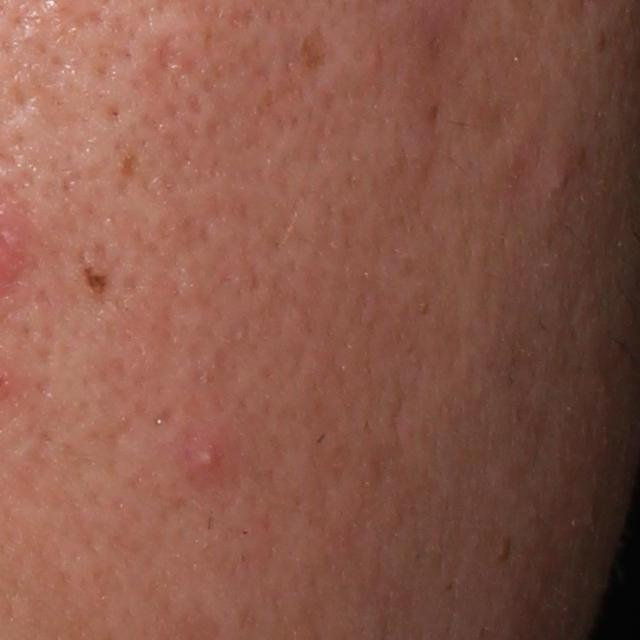atrophic_scar: (158, 28, 185, 74)
pustule: (189, 438, 232, 481)
